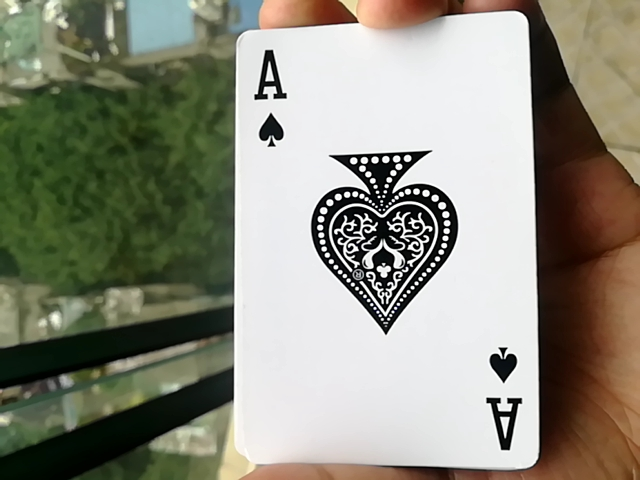ht a: (219, 35, 551, 476)
